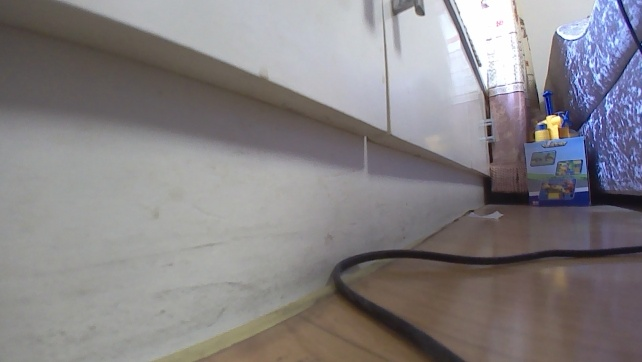sofa1: (539, 0, 641, 201)
wire: (329, 241, 641, 361)
